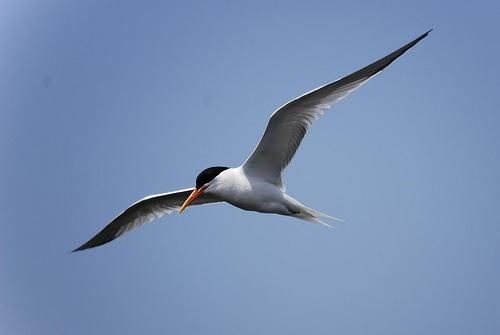bird: (61, 24, 437, 258)
